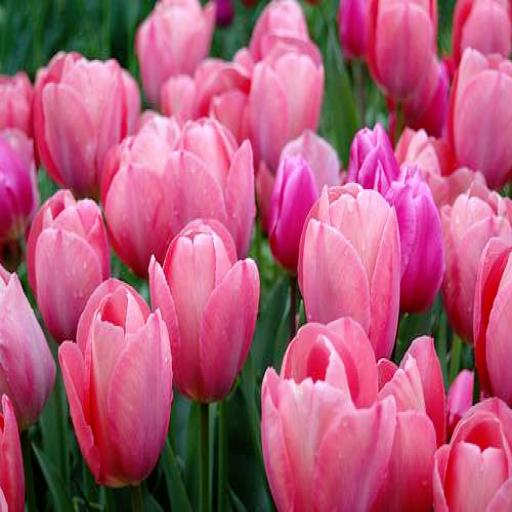tulip: (260, 304, 395, 512), (148, 212, 261, 411), (65, 283, 173, 486), (301, 183, 404, 363), (358, 333, 453, 512), (172, 112, 259, 264), (110, 117, 190, 277), (30, 189, 106, 338), (44, 57, 124, 192), (1, 260, 58, 424), (436, 389, 512, 512), (384, 163, 447, 311), (254, 32, 324, 158), (453, 47, 512, 184), (473, 232, 512, 414), (270, 146, 318, 281), (350, 118, 402, 230)
